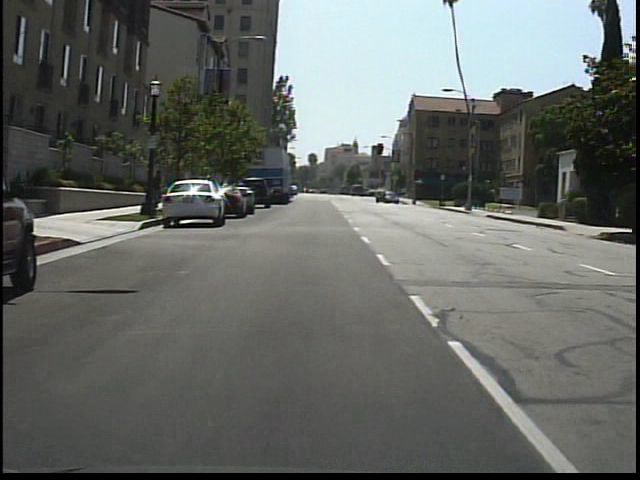person: (152, 166, 170, 213)
